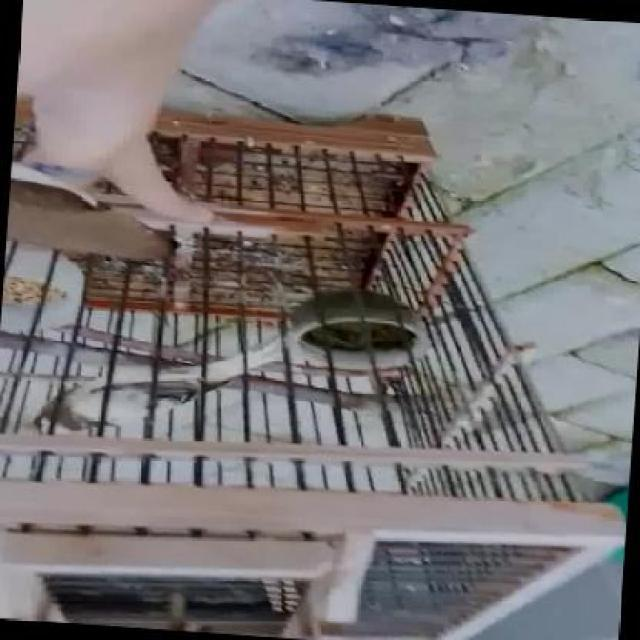Bird: (0, 136, 249, 310)
